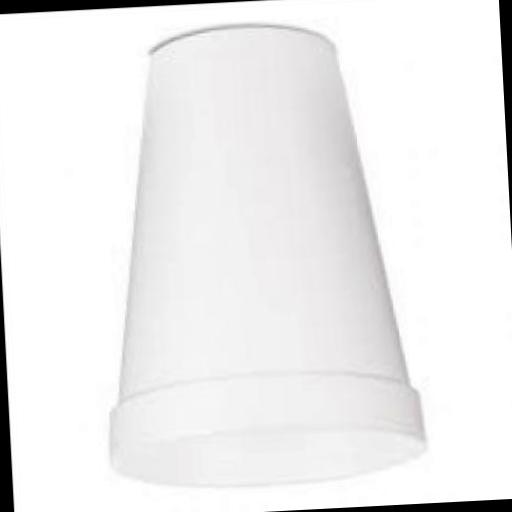paper: (90, 16, 428, 496)
